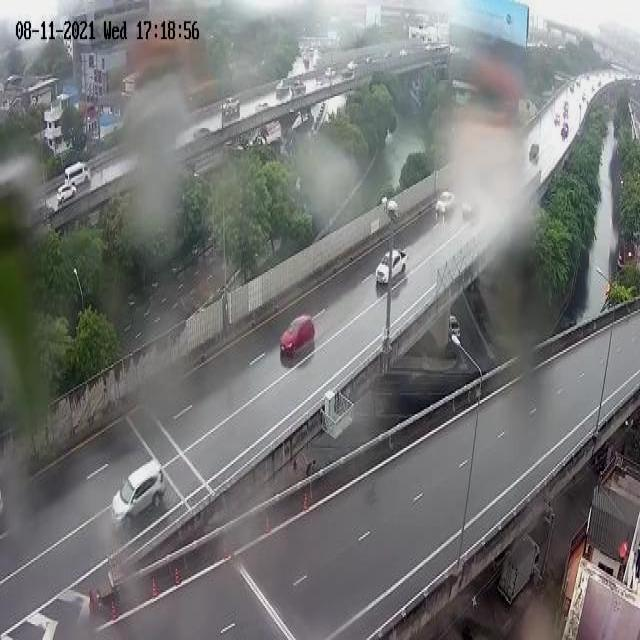Car: (115, 460, 165, 533), (278, 309, 317, 369), (374, 242, 408, 299)
